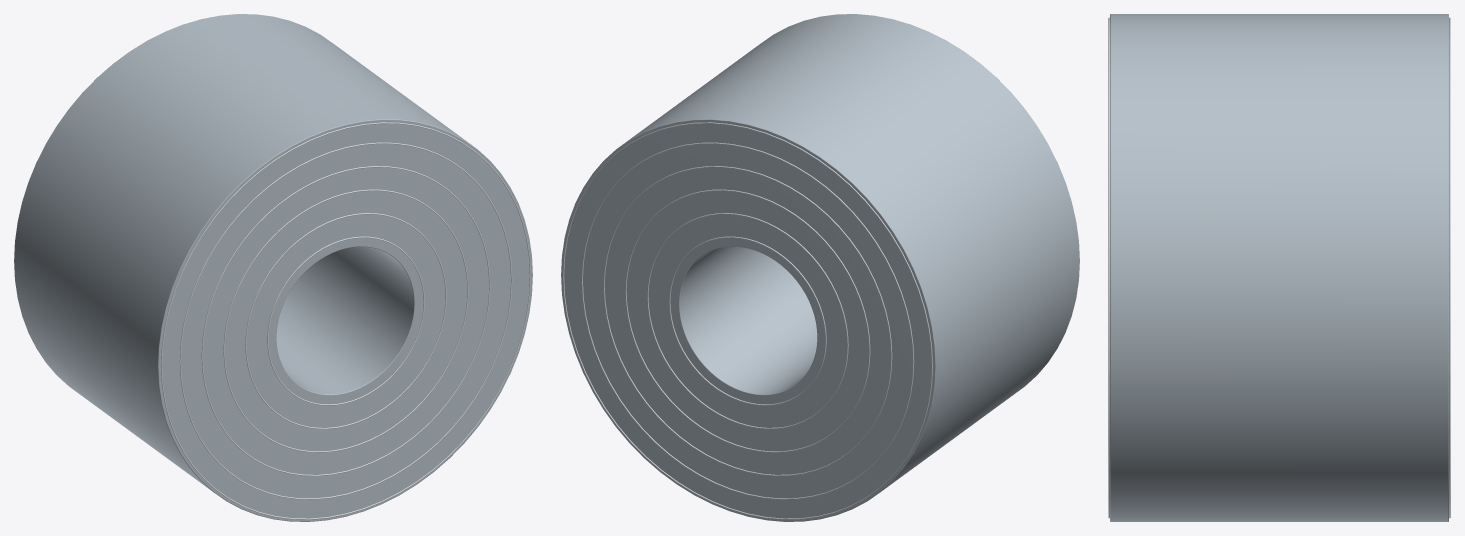
The model's file is Material_Coil.fbx.
3 views of the same model, side by side, from view 1: azimuth 30°, elevation 25°; view 2: azimuth 150°, elevation 25°; view 3: azimuth 270°, elevation 25° (orthographic). The views are drawn at different scales.
Visible parts, largest first — view 1: WoundSheet, WindingEdge.010, WindingEdge.008, WindingEdge.006, WindingEdge.004, WindingEdge.002, WindingEdge; view 2: WoundSheet, WindingEdge.011, WindingEdge.009, WindingEdge.007, WindingEdge.005, WindingEdge.003, WindingEdge.001; view 3: WoundSheet, WindingEdge.010, WindingEdge.011.
Part boxes in pixels (<box>): WoundSheet: <box>14,14,532,521</box>; WindingEdge.010: <box>161,122,530,519</box>; WindingEdge.008: <box>179,142,512,499</box>; WindingEdge.006: <box>201,166,490,475</box>; WindingEdge.004: <box>223,189,468,452</box>; WindingEdge.002: <box>245,213,446,428</box>; WindingEdge: <box>267,236,424,405</box>; WoundSheet: <box>561,14,1079,521</box>; WindingEdge.011: <box>563,122,932,519</box>; WindingEdge.009: <box>581,142,914,499</box>; WindingEdge.007: <box>603,166,892,475</box>; WindingEdge.005: <box>625,189,870,452</box>; WindingEdge.003: <box>647,213,848,428</box>; WindingEdge.001: <box>669,236,826,405</box>; WoundSheet: <box>1110,14,1448,521</box>; WindingEdge.010: <box>1108,17,1109,518</box>; WindingEdge.011: <box>1449,17,1450,518</box>.
Bounding box in the file's own units: 1.2 × 1.2 × 0.8076.
